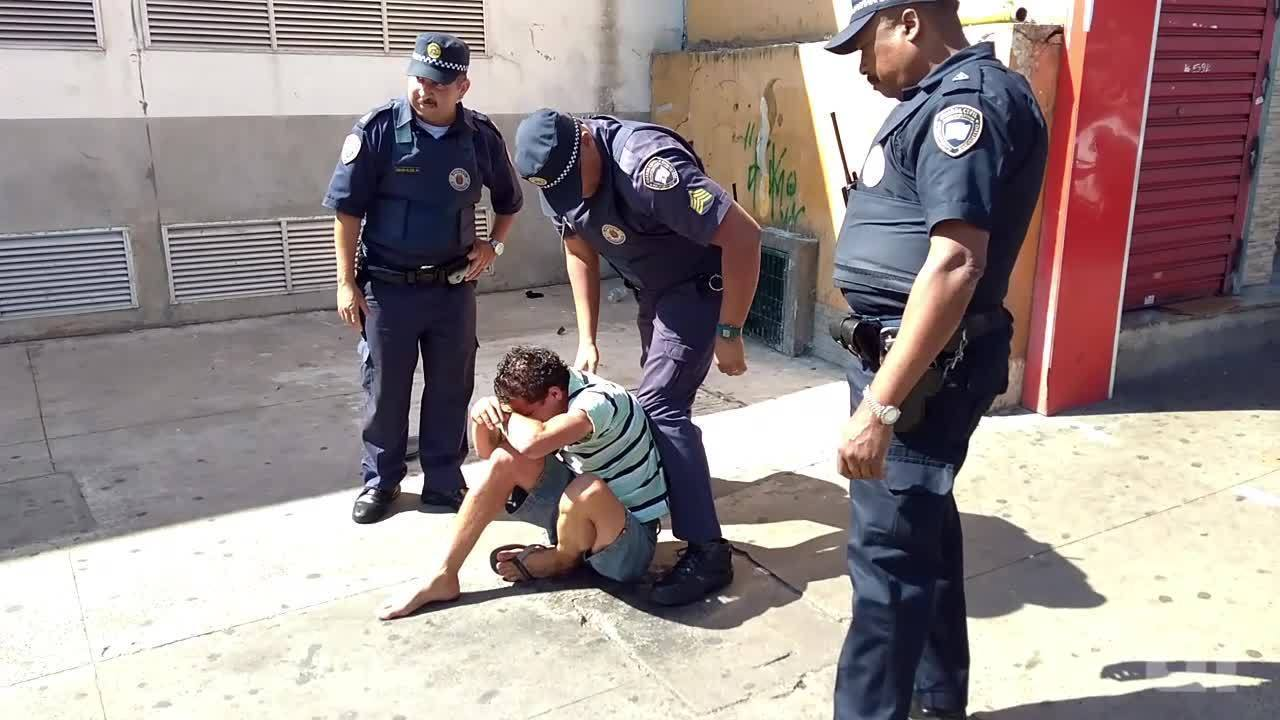Humano: (817, 1, 1064, 720), (317, 12, 486, 527), (386, 343, 674, 626), (501, 97, 785, 339)
